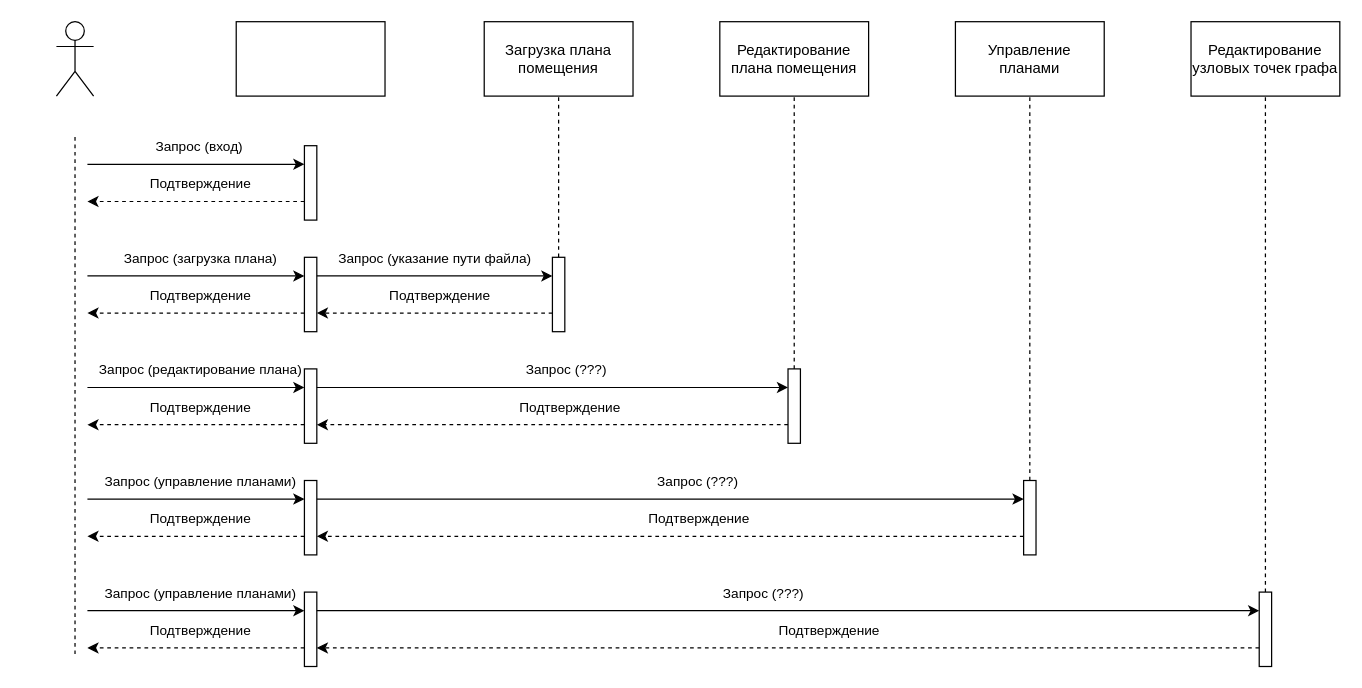
The diagram is 1362 pixels wide and 688 high, and some of its shapes have lost their labels. The shapes that lost their labels are listed below. From the top down, each one's centre as x and y in pixels, then its label:
point (74, 58): Администратор
point (310, 58): Интерфейс
